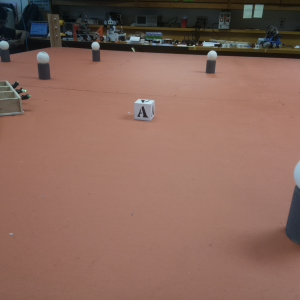obstacle: (285, 158, 300, 243), (33, 49, 55, 82), (201, 50, 221, 76), (89, 43, 105, 63), (1, 39, 13, 62)
side: (2, 79, 26, 116)
